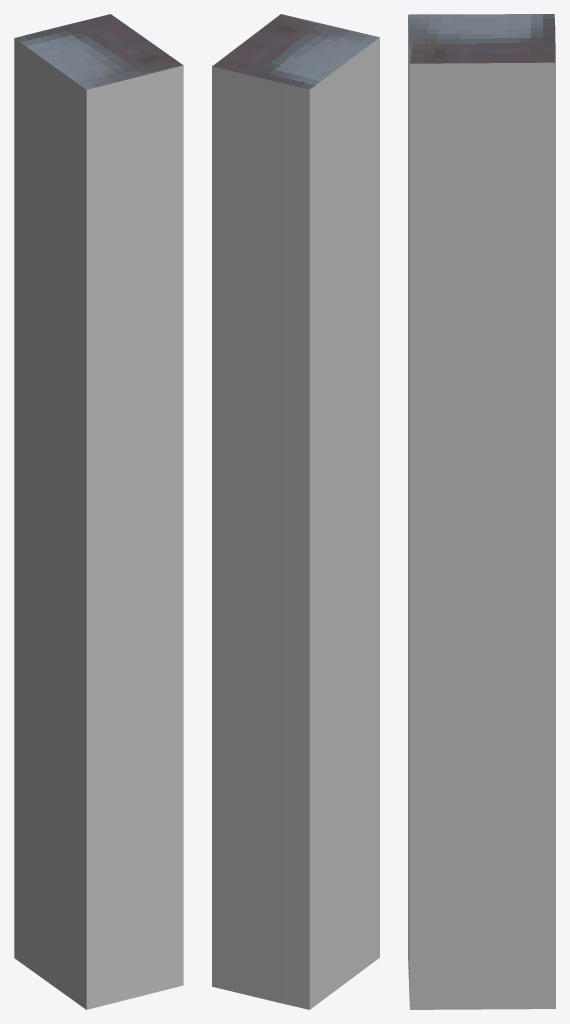
Rendered from DEBW_0010007THWo.gltf.
The picture shows the model from 3 angles, left to right: view 1: azimuth 30°, elevation 25°; view 2: azimuth 150°, elevation 25°; view 3: azimuth 270°, elevation 25°; orthographic projection. The views are drawn at different scales.
Visible parts, largest first — view 1: Z_UP; view 2: Z_UP; view 3: Z_UP.
Part boxes in pixels (x1,y1,x2,y2): Z_UP: (14,14,183,1009); Z_UP: (212,14,379,1009); Z_UP: (408,14,555,1009).
Size of the model in its own units: 1.96 by 17.39 by 2.46.
Materials: 2 (1 with a texture image).
